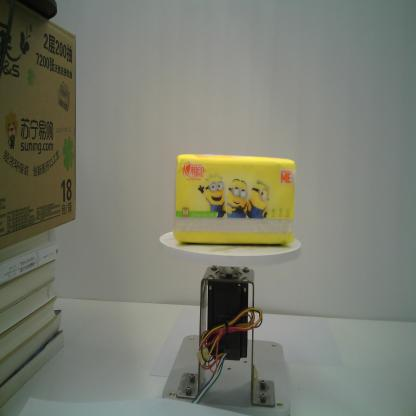Tissue: (174, 151, 296, 243)
